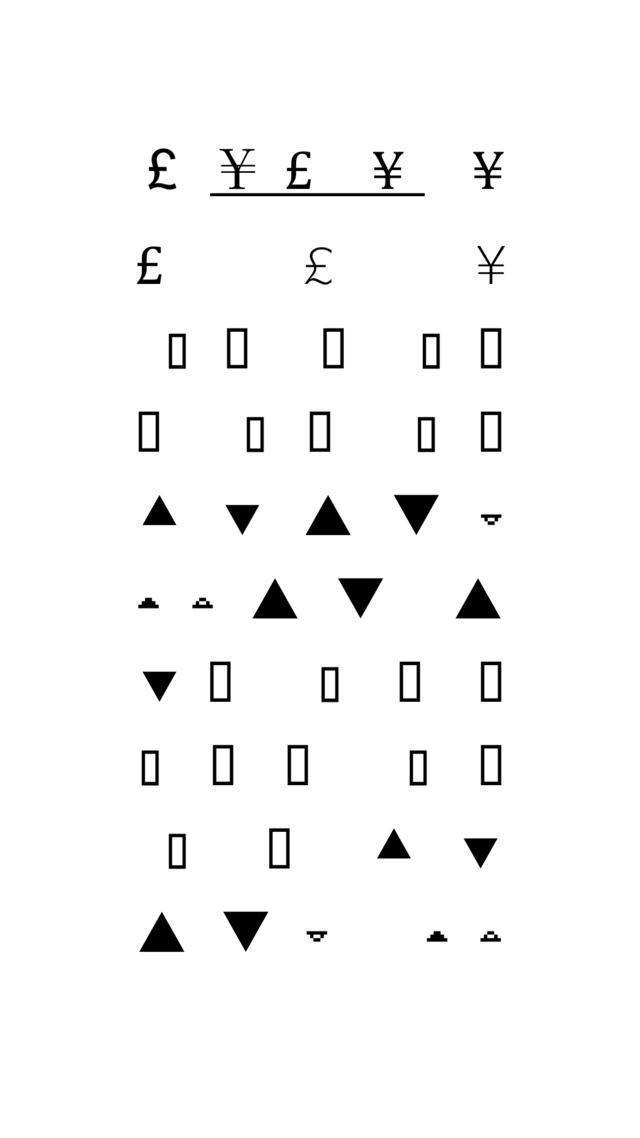ASCII: (127, 902, 193, 966), (444, 572, 505, 630), (294, 489, 356, 545), (458, 140, 512, 202), (120, 231, 168, 299), (249, 572, 305, 630), (332, 570, 387, 627), (385, 487, 446, 538), (220, 896, 268, 956), (137, 142, 185, 196), (470, 736, 510, 797), (257, 816, 297, 877), (130, 398, 168, 460), (132, 489, 182, 536), (298, 242, 342, 295), (473, 235, 512, 294), (372, 824, 417, 875), (474, 403, 512, 460), (407, 404, 444, 462), (310, 659, 350, 712), (138, 657, 180, 707), (220, 492, 264, 539), (460, 827, 502, 876), (160, 822, 196, 877), (476, 658, 512, 712), (238, 402, 272, 459), (304, 402, 338, 459), (202, 657, 240, 708), (403, 739, 438, 794), (393, 652, 425, 712), (158, 322, 192, 378), (219, 324, 258, 372), (208, 739, 242, 794), (475, 322, 507, 379), (282, 736, 312, 793), (320, 320, 350, 374), (417, 322, 447, 374), (477, 497, 512, 541), (137, 742, 166, 794), (130, 586, 164, 628), (299, 916, 335, 950), (189, 585, 217, 624), (421, 921, 452, 956), (475, 918, 507, 950)
